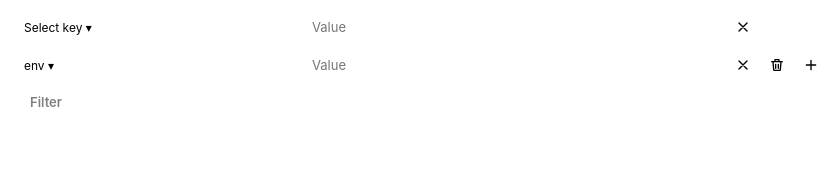
Test: HeaderFilterPanel › offers a deleted row's key again
Click the button named "Delete header 2" at x=777, y=65, box [762,50,792,80]
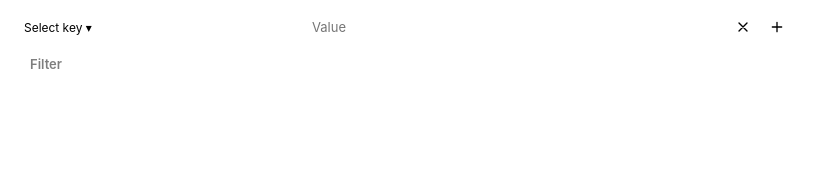
Click the button "Select key ▾" at x=53, y=27, box [12,12,292,42]
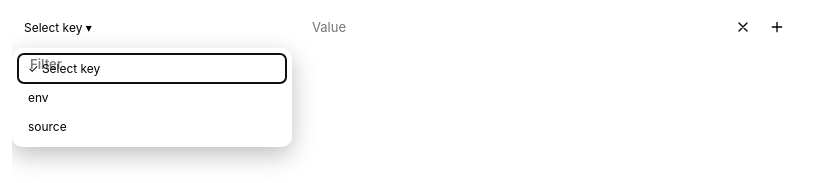
Check: the options read "✓ Select key", "env", "source", in this order, box [28,60,100,76]; [28,90,49,104]; [28,118,67,134]
